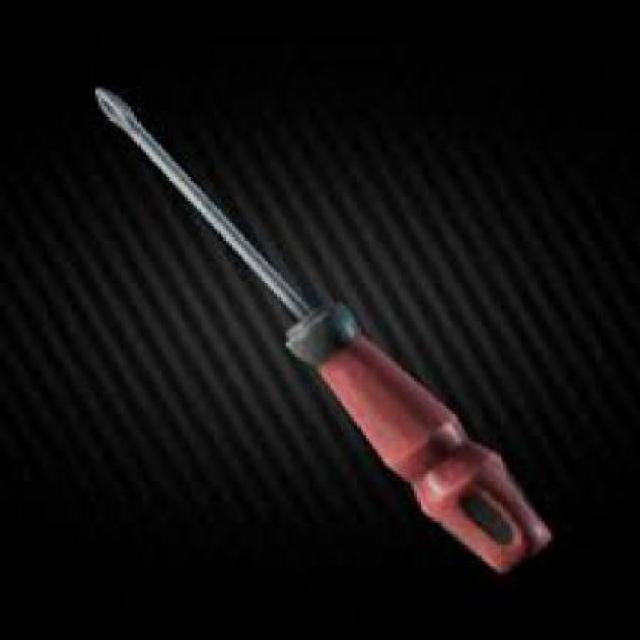screwdriver: (92, 84, 557, 580)
